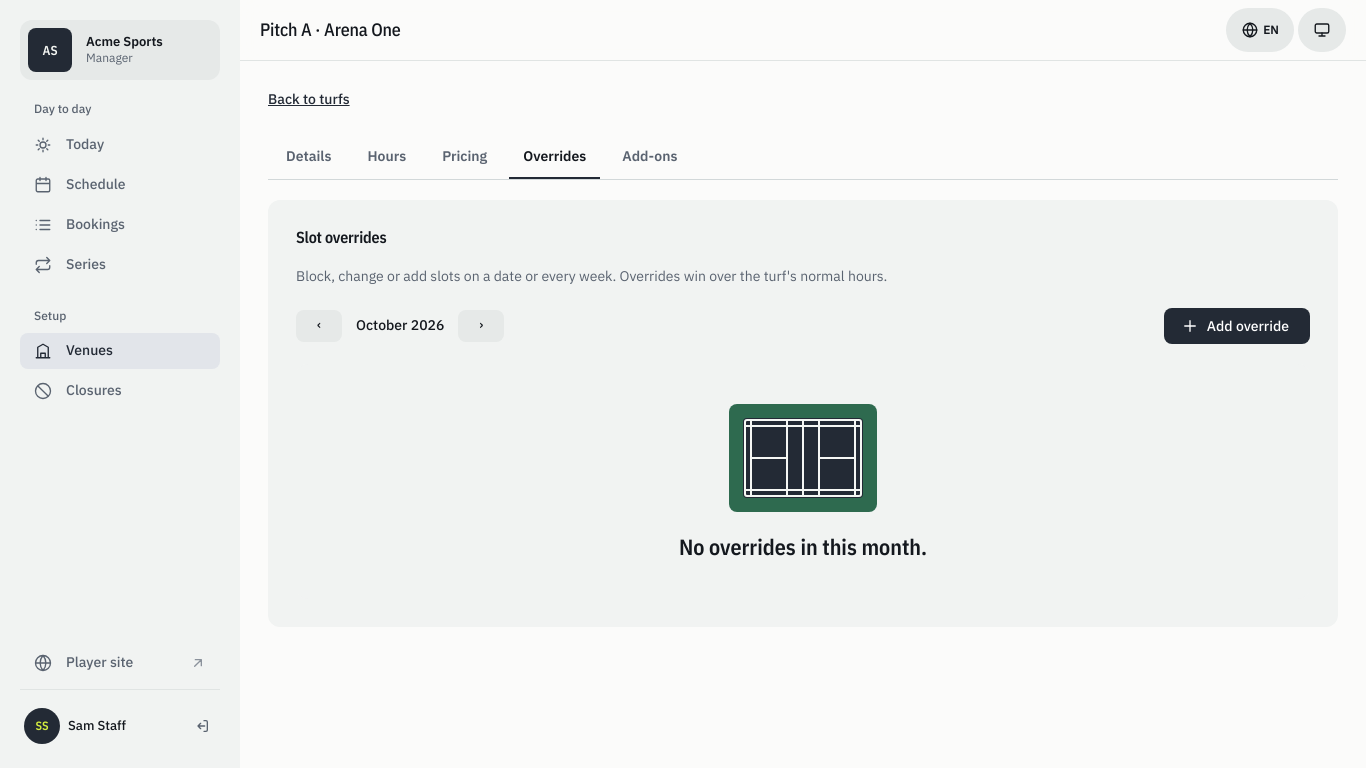
it: overrides tab › override_overlap from the API is shown translated
Expected: the text "No overrides in this month." is shown, left=679, top=534, right=927, bottom=559
Click the button "Add override": [1237, 326] box left=1164, top=308, right=1310, bottom=344
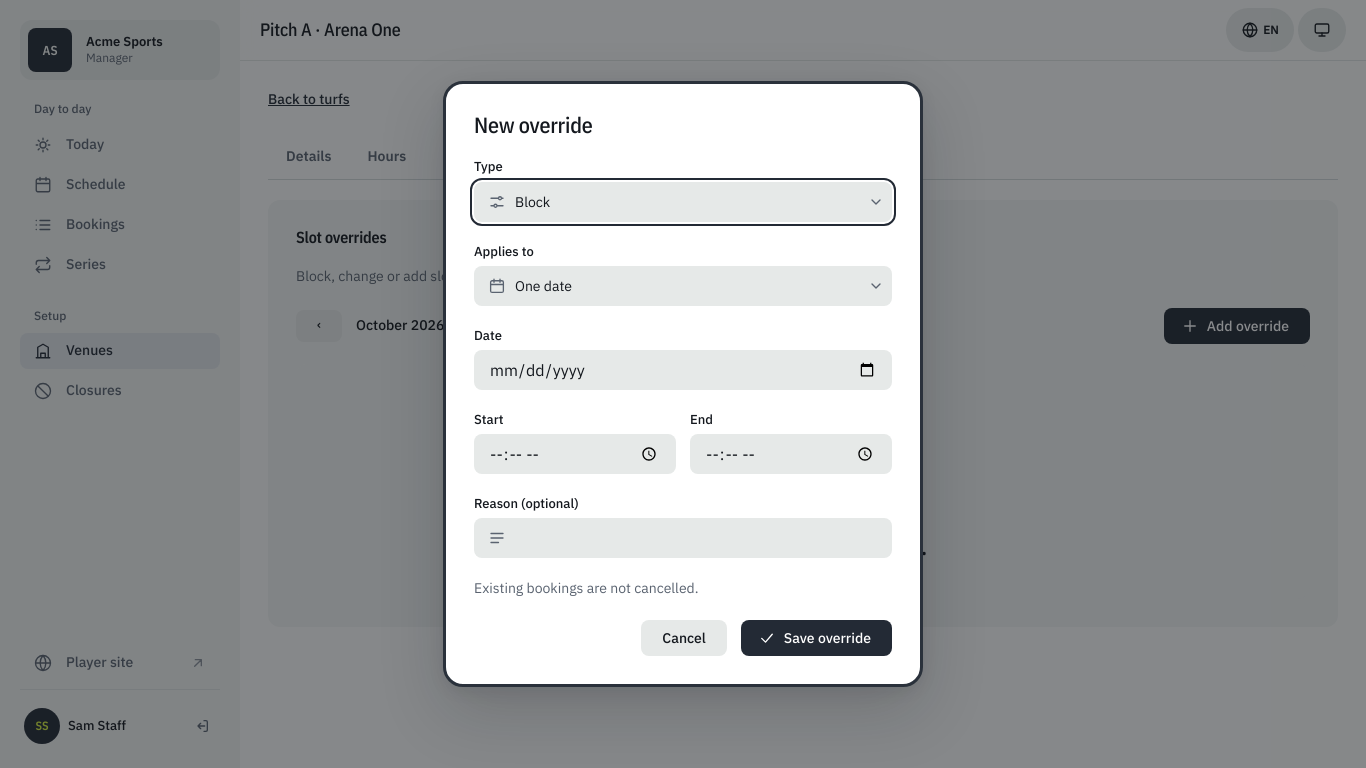
Expected: the text "Existing bookings are not cancelled." is shown, left=474, top=579, right=698, bottom=597
In the date field labelled "Date": [683, 370] box left=474, top=350, right=892, bottom=390, type "2026-10-26"
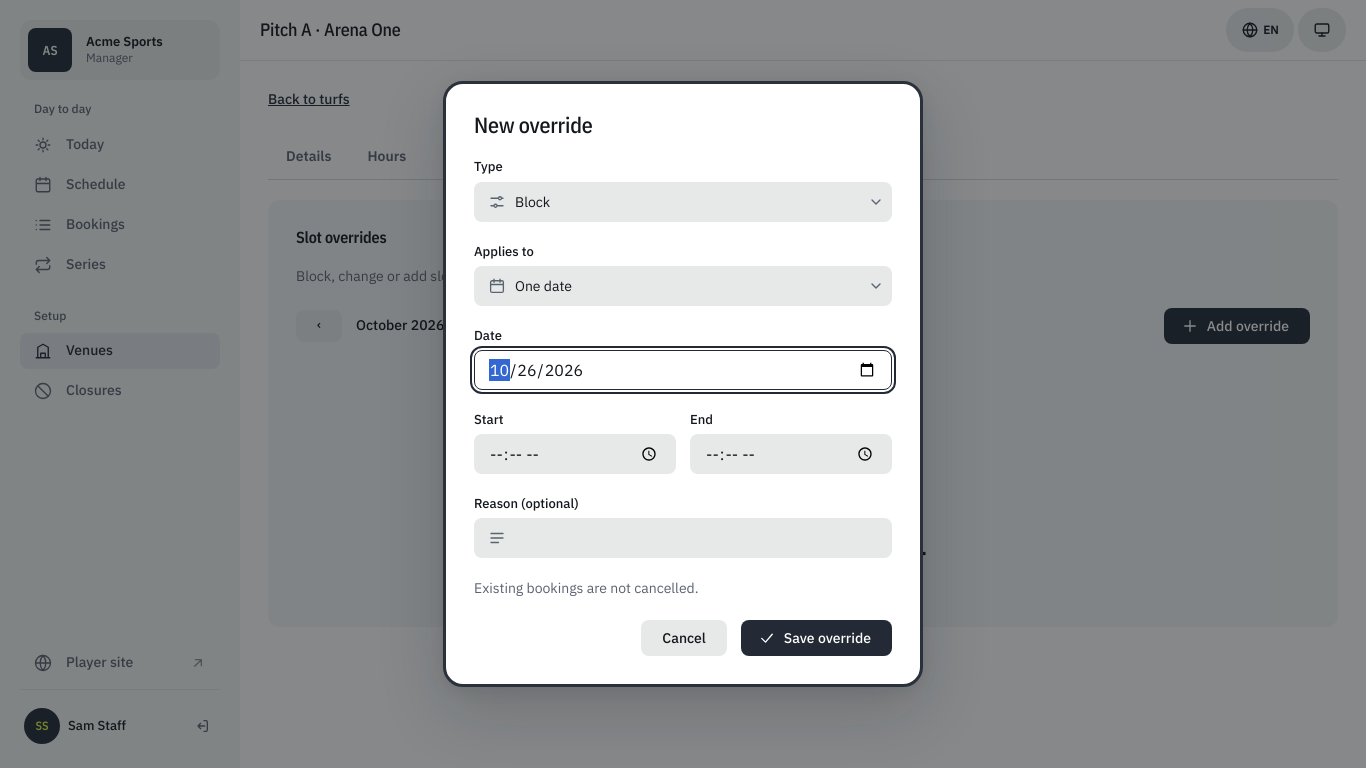
In the time field labelled "Start": [575, 454] box left=474, top=434, right=676, bottom=474, type "10:00"
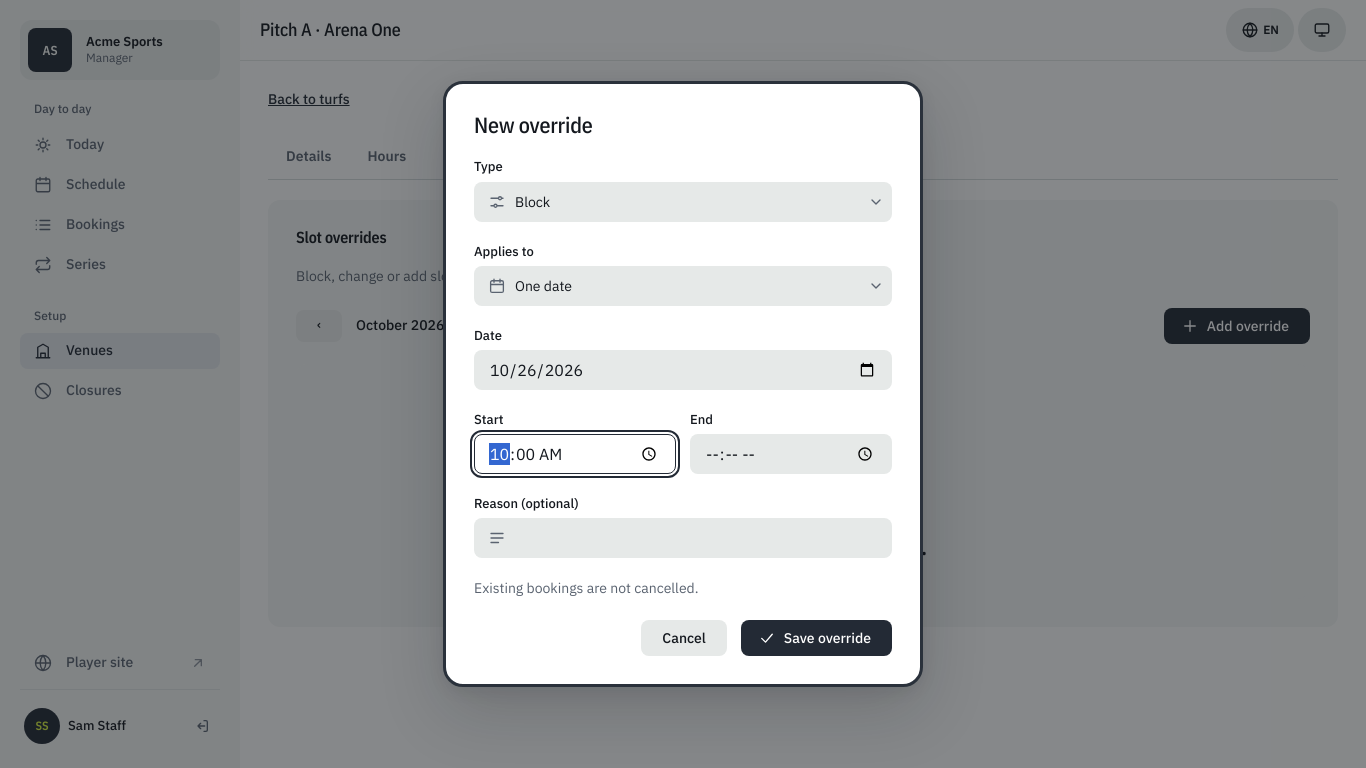
In the time field labelled "End": [791, 454] box left=690, top=434, right=892, bottom=474, type "12:00"
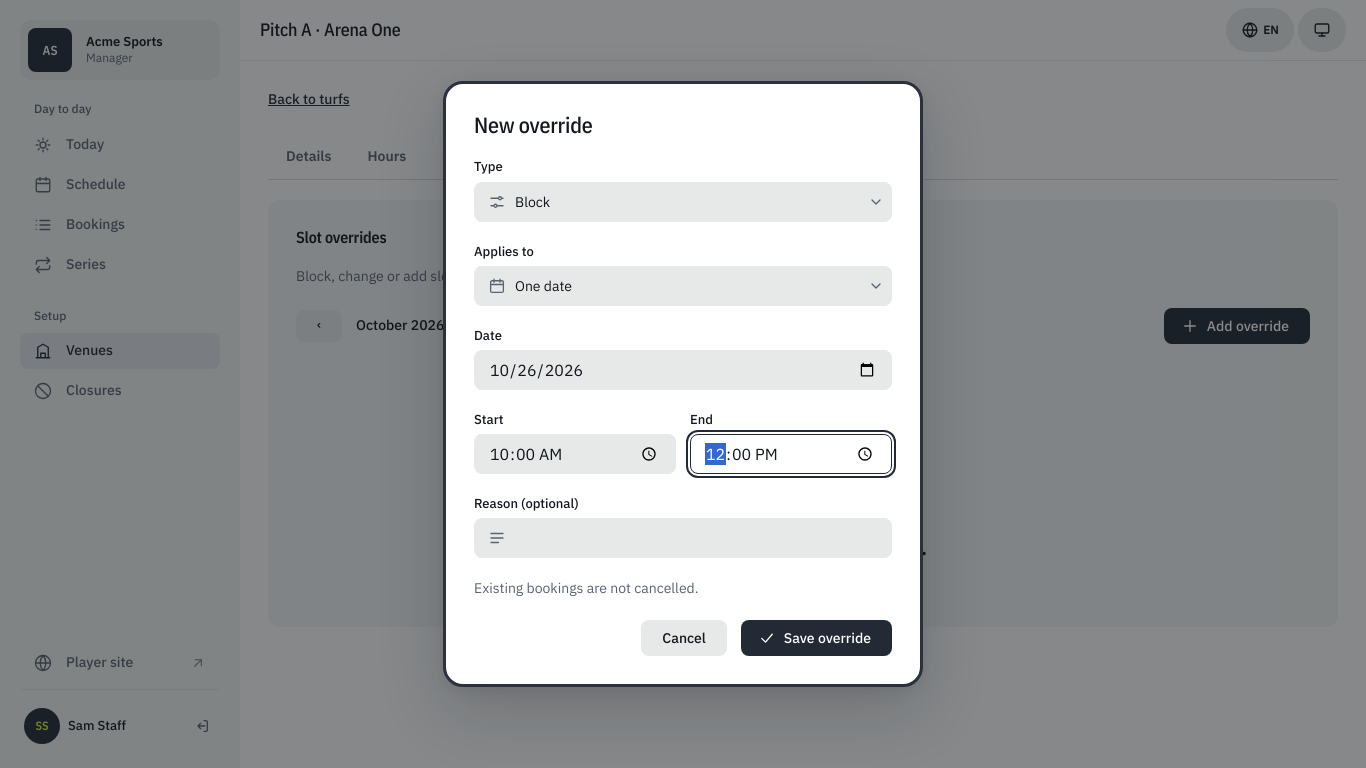
Click the button "Save override": [816, 638] box left=741, top=620, right=892, bottom=656
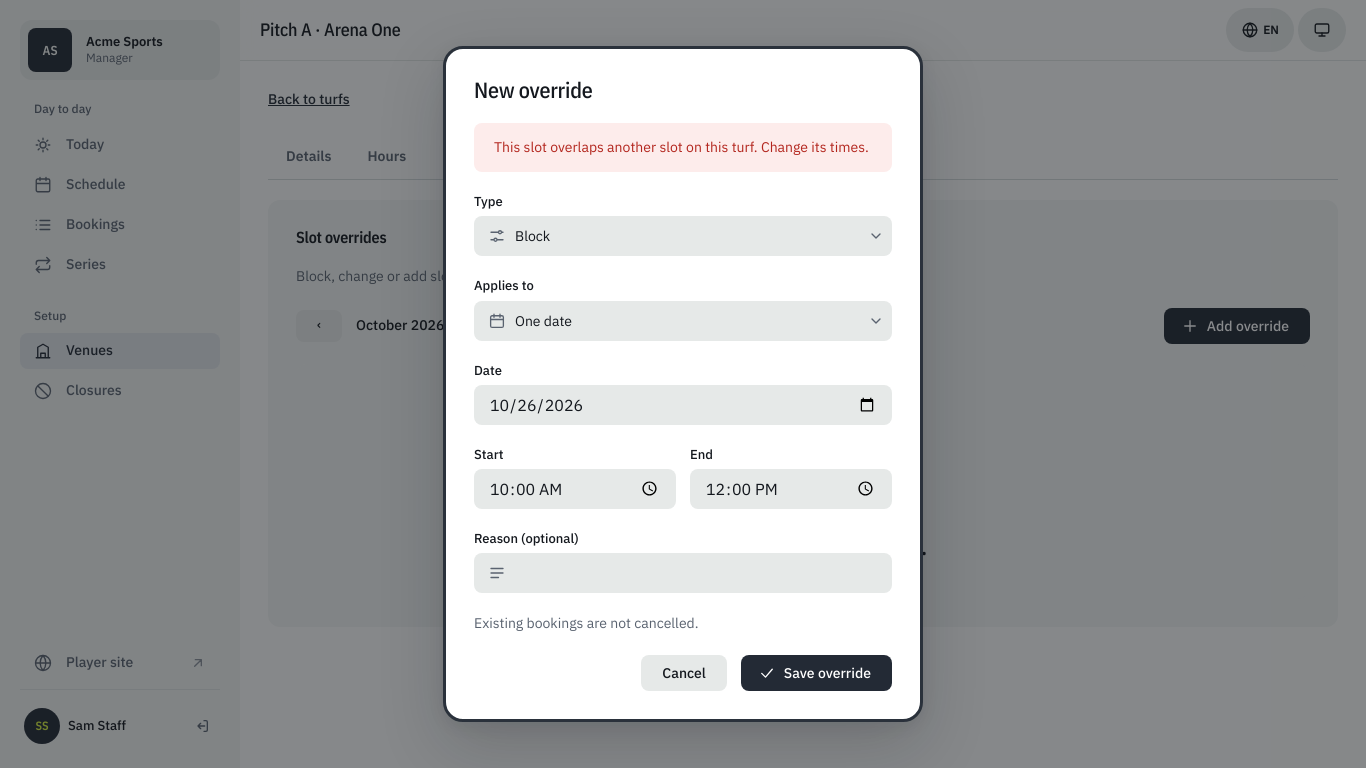
Expected: the text "This slot overlaps another slot on this turf. Change its times." is shown, left=474, top=123, right=892, bottom=172
